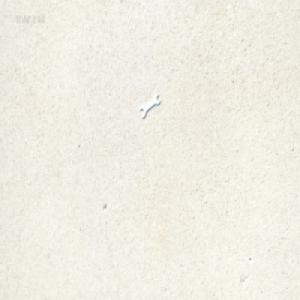Wrench: (139, 95, 160, 119)
